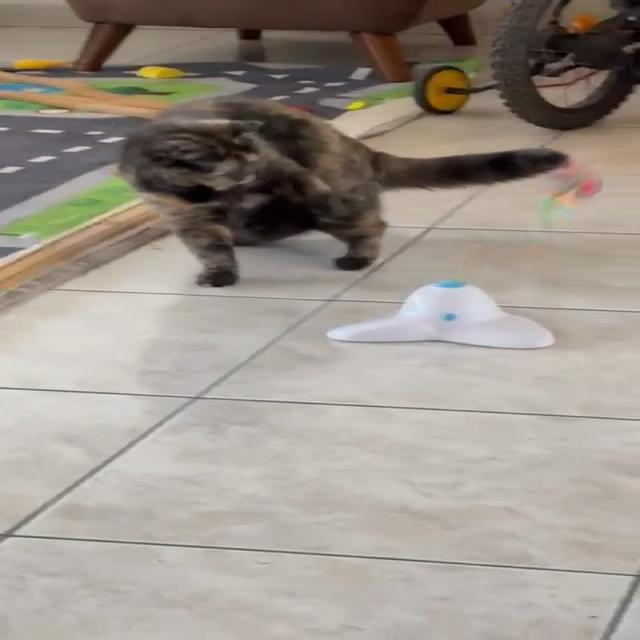authorized: (113, 94, 570, 288)
